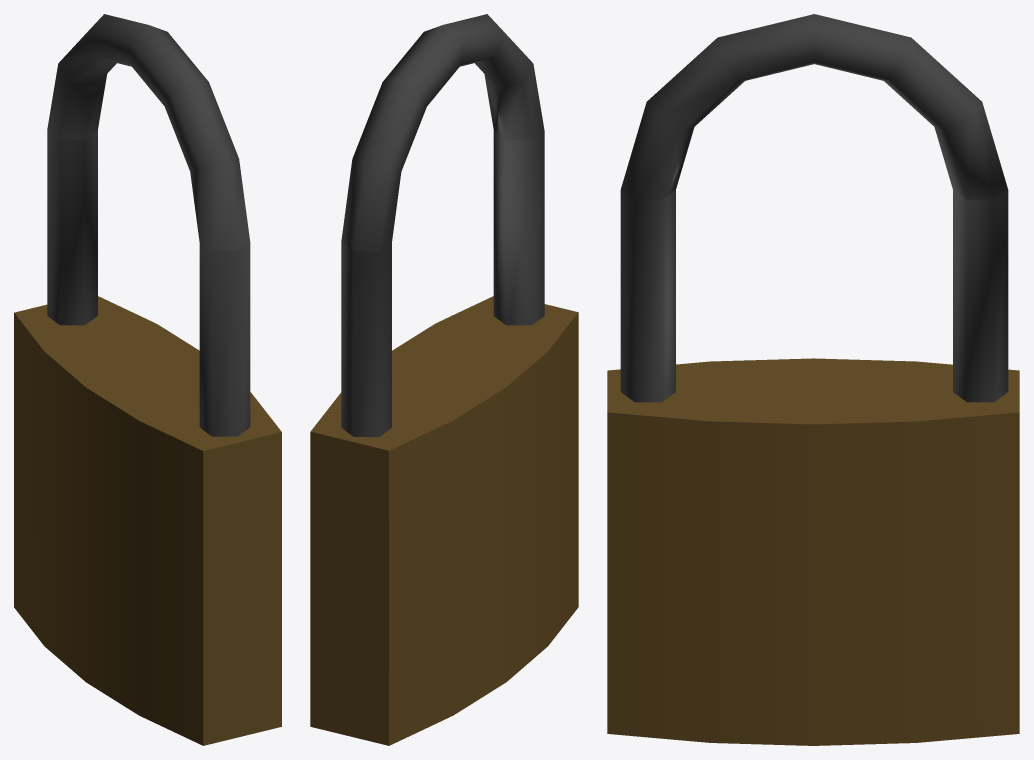
Rendered from MSH_Candado.FBX.
3 views of the same model, side by side, from view 1: azimuth 30°, elevation 25°; view 2: azimuth 150°, elevation 25°; view 3: azimuth 270°, elevation 25° (orthographic). The views are drawn at different scales.
Visible parts, largest first — view 1: Candado; view 2: Candado; view 3: Candado.
Boxes of the visible parts, x1,y1,x2,y2 form: Candado: [14, 14, 281, 745]; Candado: [310, 14, 578, 745]; Candado: [607, 14, 1019, 745].
Bounding box in the file's own units: 11.32 × 55.96 × 29.91.
